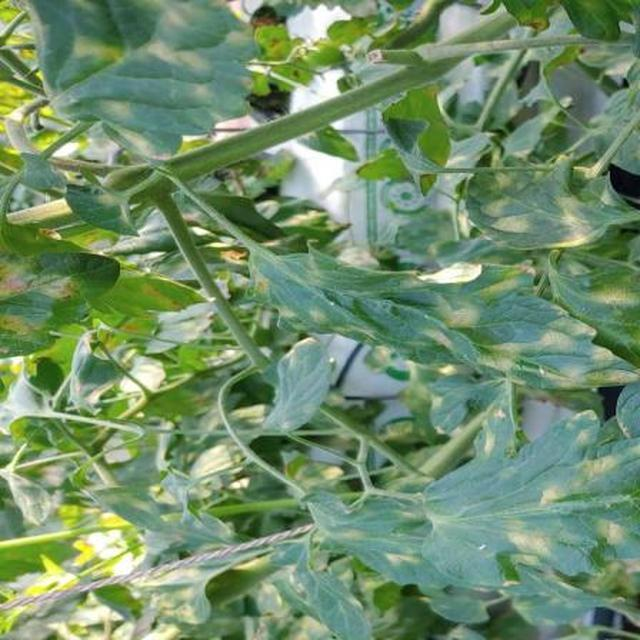Leaf Mold: (103, 115, 640, 640)
